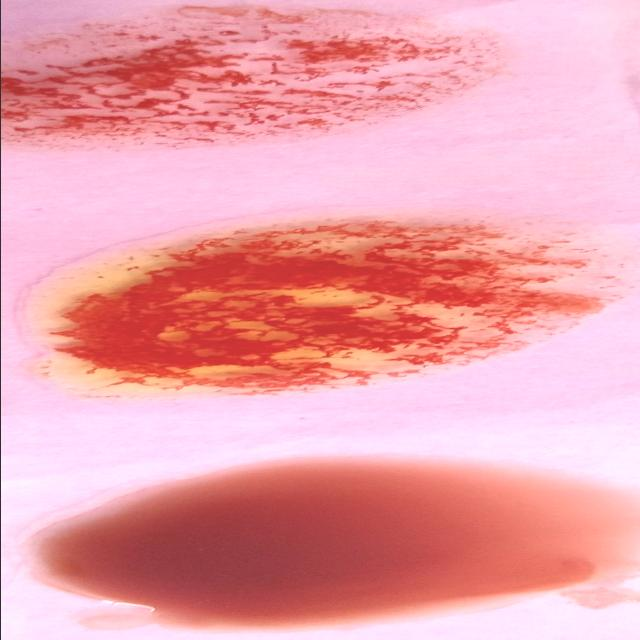B: (32, 214, 618, 400)
D: (0, 19, 510, 128)
